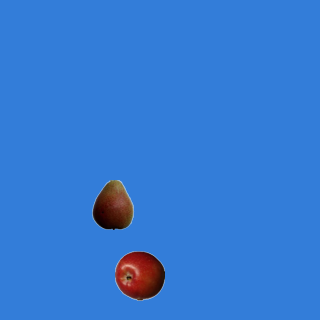Apple Braeburn: (114, 250, 164, 300)
Pear Forelle: (87, 179, 137, 229)
